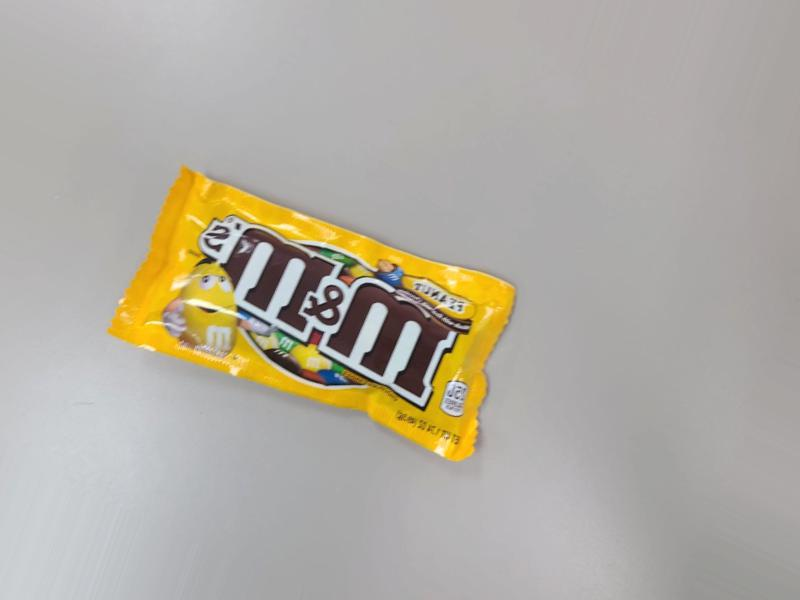m&m: (90, 161, 504, 452)
